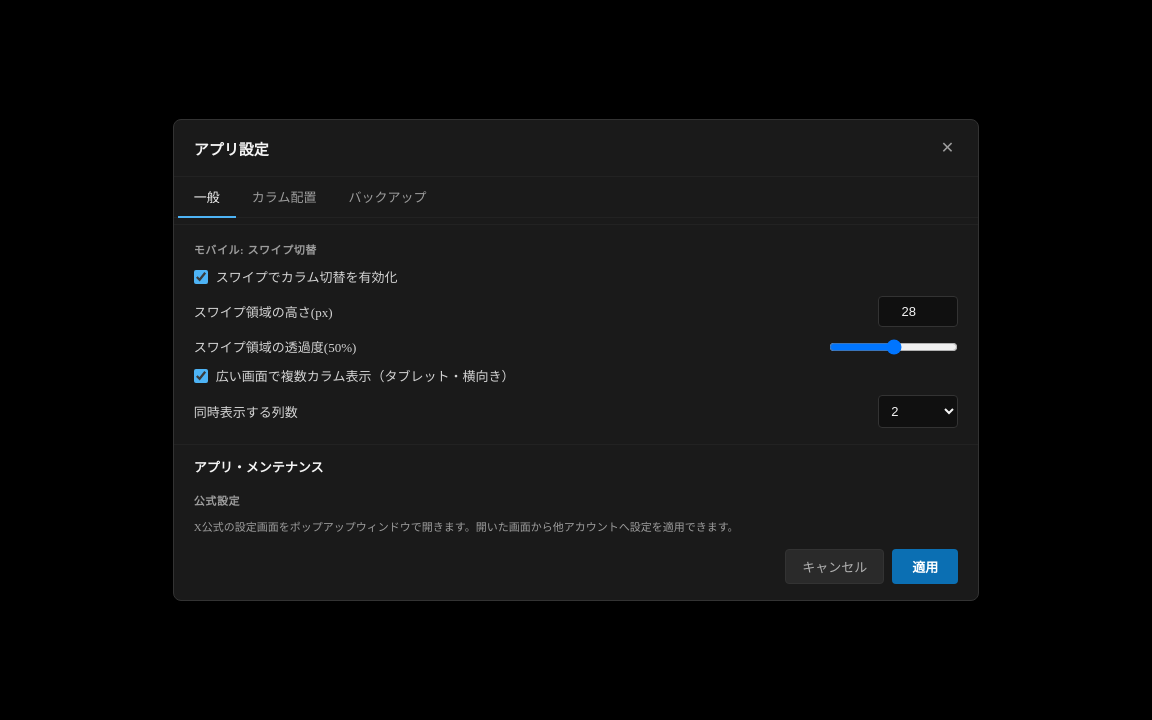
Test: AppSettingsPanel スワイプ切替設定 › 設定画面で複数カラム表示がONのときだけ列数を選べる
(page scrolled)
What coordinates should you click on to do the following:
click the checkbox labelled "広い画面で複数カラム表示（タブレット・横向き）"
I would click on:
 (201, 376)
Its box is [194, 369, 208, 383].
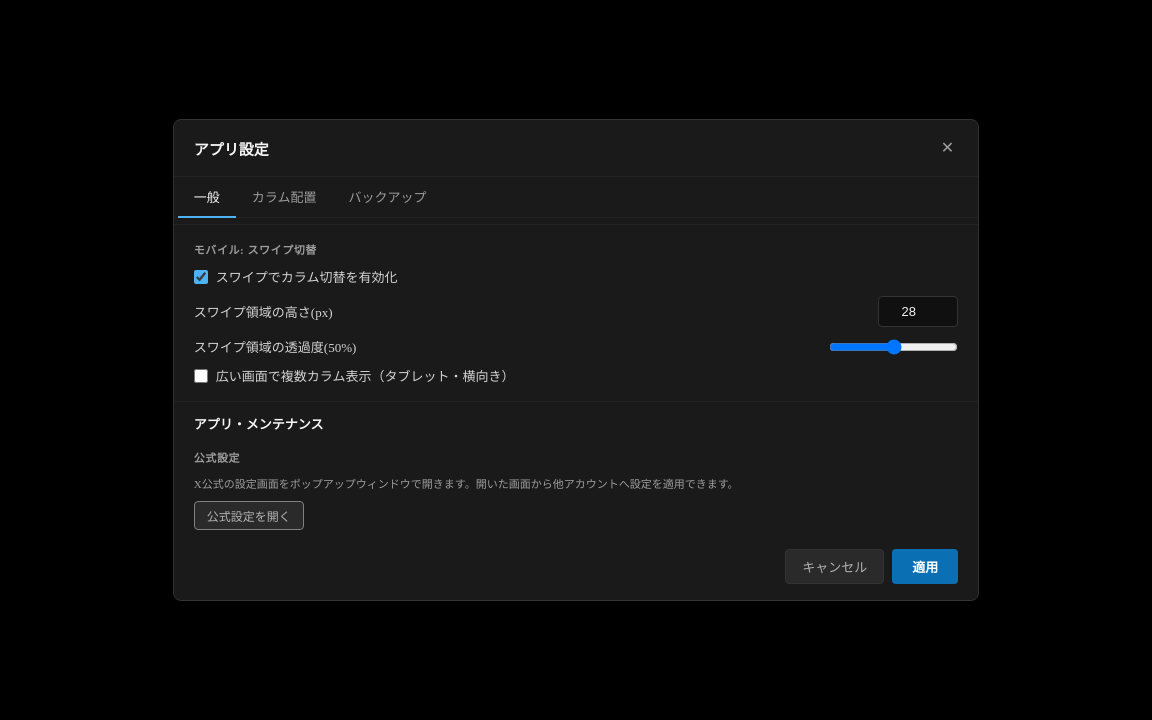
Result: the label "同時表示する列数" is gone
